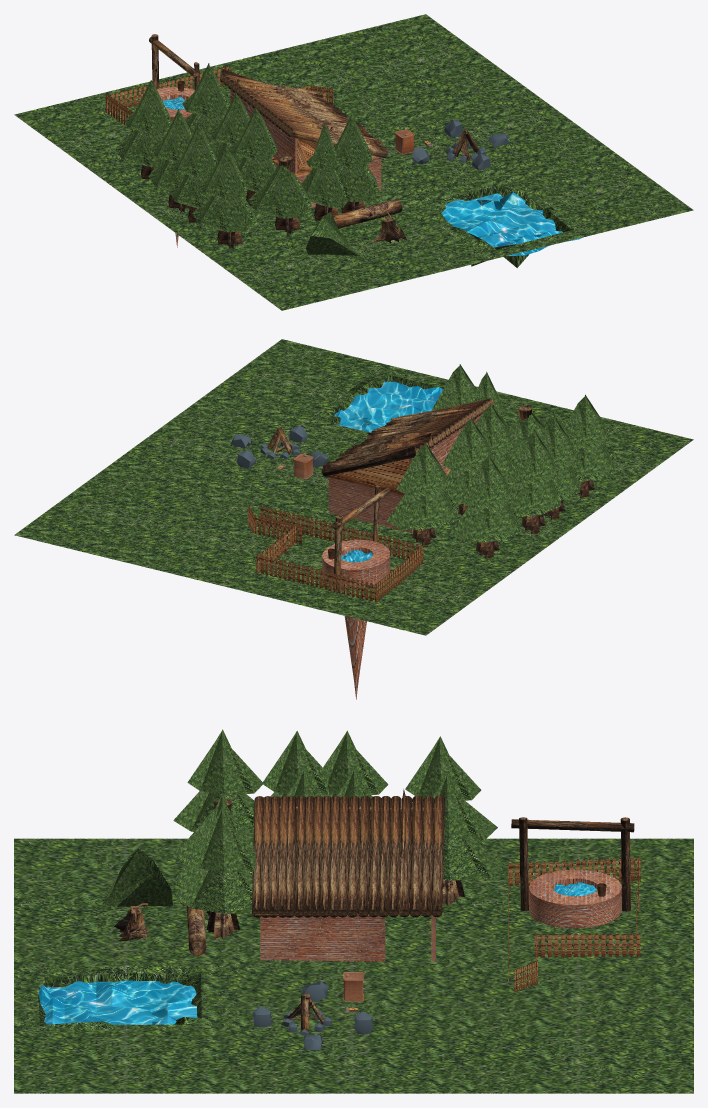
Rendered from village_house_lowpoly.glb.
3 renders of one model, top to bottom at view 1: azimuth 30°, elevation 25°; view 2: azimuth 150°, elevation 25°; view 3: azimuth 270°, elevation 25°, orthographic. The views are drawn at different scales.
Visible parts, largest first — view 1: Object_6, Object_13, Object_14, Object_10, Object_15, Object_7, Object_4, Object_12; view 2: Object_6, Object_13, Object_10, Object_14, Object_12, Object_7, Object_15, Object_4; view 3: Object_6, Object_13, Object_12, Object_14, Object_10, Object_15, Object_9.
Boxes of the visible parts, left/top/right/bottom form: Object_6: left=14, top=14, right=693, bottom=310; Object_13: left=141, top=34, right=478, bottom=248; Object_14: left=163, top=96, right=582, bottom=255; Object_10: left=105, top=66, right=378, bottom=176; Object_15: left=412, top=120, right=508, bottom=170; Object_7: left=230, top=89, right=297, bottom=173; Object_4: left=306, top=122, right=339, bottom=170; Object_12: left=156, top=87, right=194, bottom=247; Object_6: left=14, top=339, right=693, bottom=635; Object_13: left=267, top=398, right=594, bottom=589; Object_10: left=247, top=459, right=450, bottom=602; Object_14: left=334, top=381, right=443, bottom=562; Object_12: left=322, top=539, right=390, bottom=699; Object_7: left=328, top=414, right=481, bottom=533; Object_15: left=230, top=425, right=328, bottom=468; Object_4: left=472, top=371, right=503, bottom=416; Object_6: left=14, top=729, right=693, bottom=1093; Object_13: left=114, top=789, right=634, bottom=1030; Object_12: left=261, top=869, right=621, bottom=961; Object_14: left=38, top=882, right=596, bottom=1024; Object_10: left=255, top=857, right=640, bottom=992; Object_15: left=253, top=981, right=372, bottom=1050; Object_9: left=343, top=972, right=363, bottom=1009.
Bounding box in the file's own units: 34.63 × 18.1 × 38.78.
Materials: 13 (12 with a texture image).
